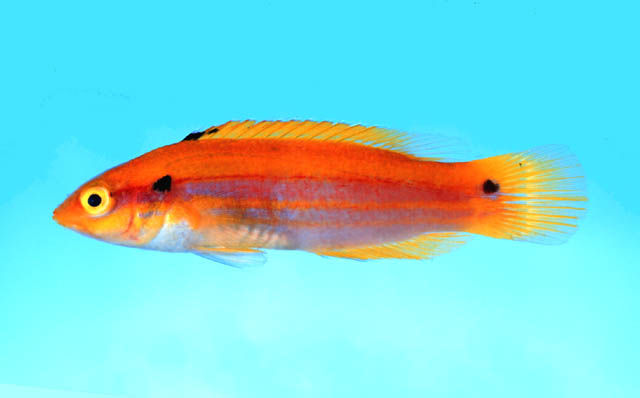fish: (53, 121, 588, 268)
